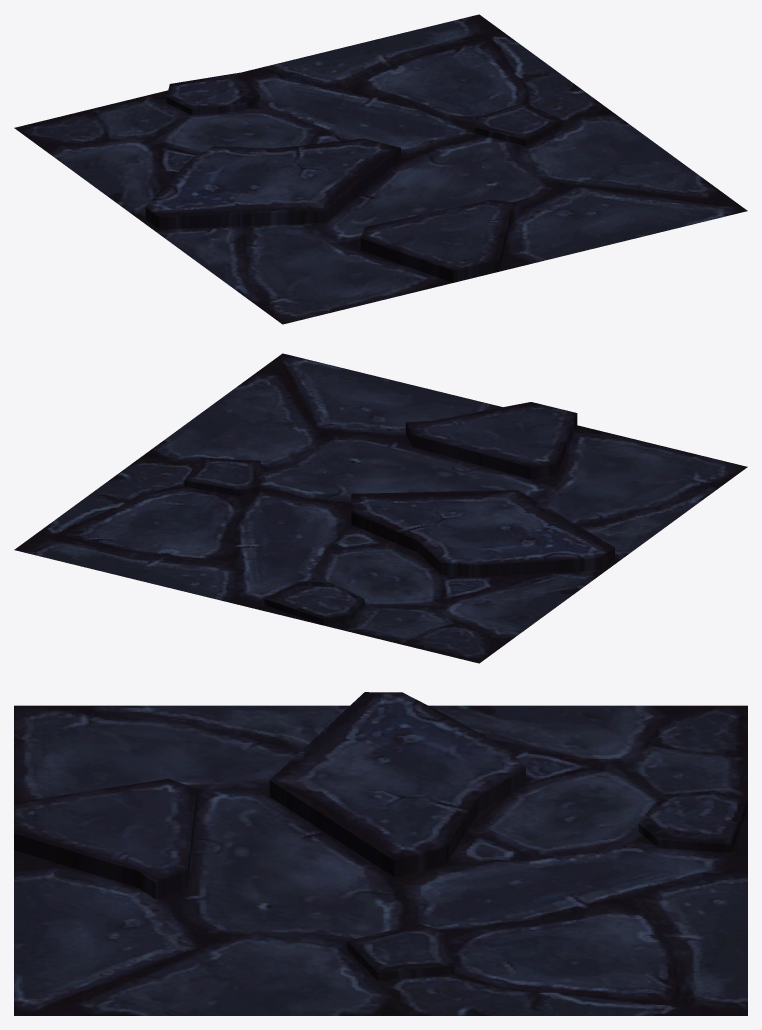
File: palace_floor_blank_05.fbx
The picture shows the model from 3 angles, top to bottom: view 1: azimuth 30°, elevation 25°; view 2: azimuth 150°, elevation 25°; view 3: azimuth 270°, elevation 25°; orthographic projection. The views are drawn at different scales.
Visible parts, largest first — view 1: palace_tileset/palace_floor01_shadow_mat; view 2: palace_tileset/palace_floor01_shadow_mat; view 3: palace_tileset/palace_floor01_shadow_mat.
Boxes of the visible parts, box(x1,y1,x2,y2) form: palace_tileset/palace_floor01_shadow_mat: box(14, 14, 747, 324); palace_tileset/palace_floor01_shadow_mat: box(14, 353, 747, 663); palace_tileset/palace_floor01_shadow_mat: box(14, 692, 747, 1015).
Bounding box in the file's own units: 4 × 0.1 × 4.
